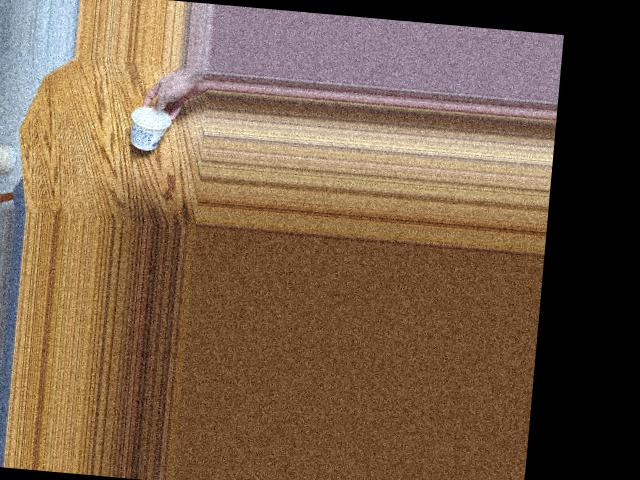cotage: (125, 103, 173, 150)
